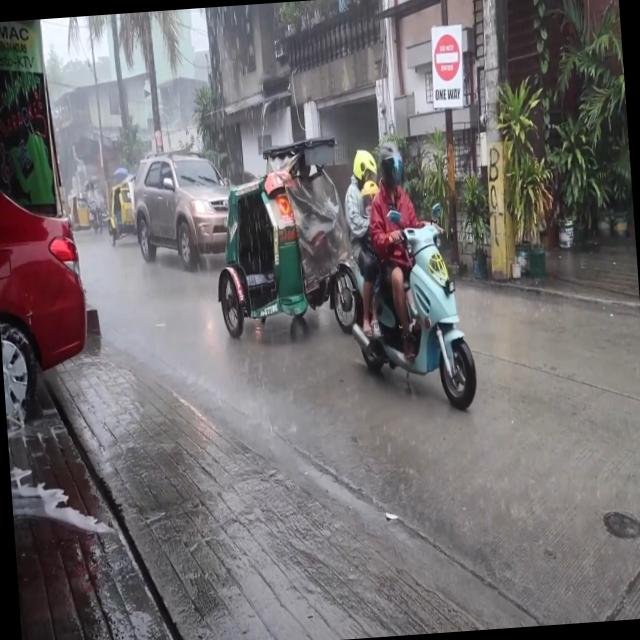half: (378, 138, 405, 191), (351, 146, 379, 190), (359, 178, 381, 217)
